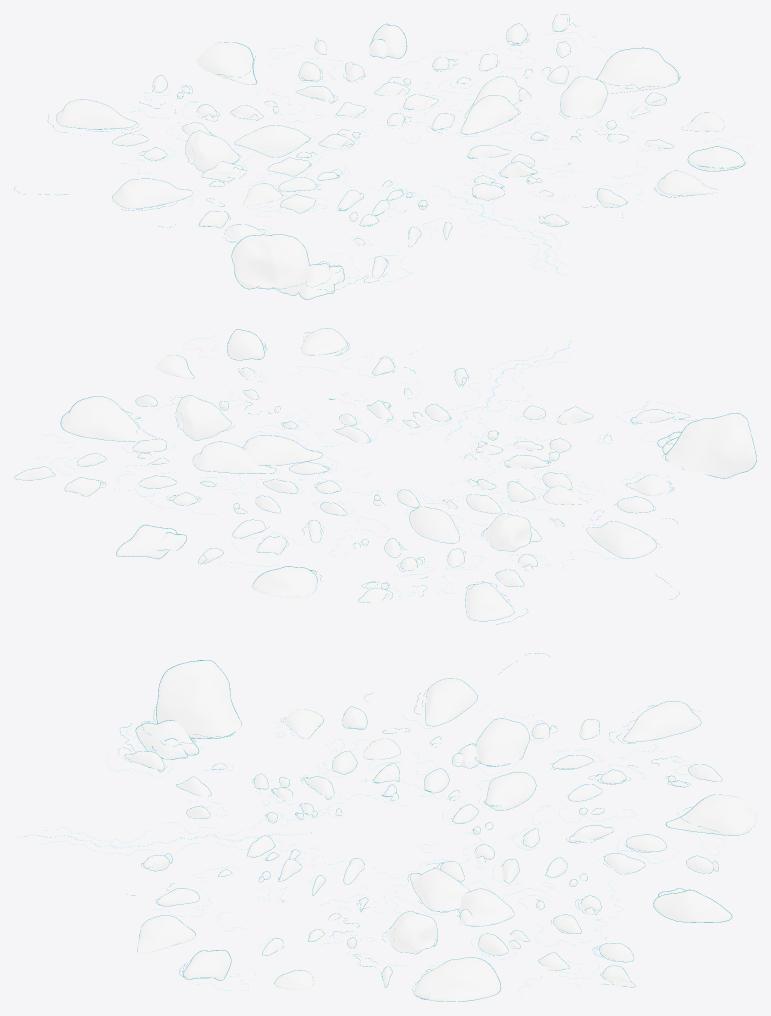
The model's file is lines3.glb.
3 views of the same model, one above another, from view 1: azimuth 30°, elevation 25°; view 2: azimuth 150°, elevation 25°; view 3: azimuth 270°, elevation 25° (orthographic). The views are drawn at different scales.
Visible parts, largest first — view 1: Cube.003, LighterLine, darkerLine; view 2: Cube.003, LighterLine, darkerLine; view 3: Cube.003, LighterLine, darkerLine.
Boxes of the visible parts, left/top/right/bottom form: Cube.003: left=56, top=14, right=744, bottom=299; LighterLine: left=121, top=31, right=753, bottom=287; darkerLine: left=14, top=23, right=746, bottom=291; Cube.003: left=14, top=328, right=756, bottom=621; LighterLine: left=36, top=333, right=688, bottom=598; darkerLine: left=54, top=342, right=696, bottom=624; Cube.003: left=124, top=660, right=756, bottom=1001; LighterLine: left=43, top=698, right=725, bottom=998; darkerLine: left=118, top=653, right=719, bottom=999.
Size of the model in its own units: 65.85 by 5.8 by 59.32.
